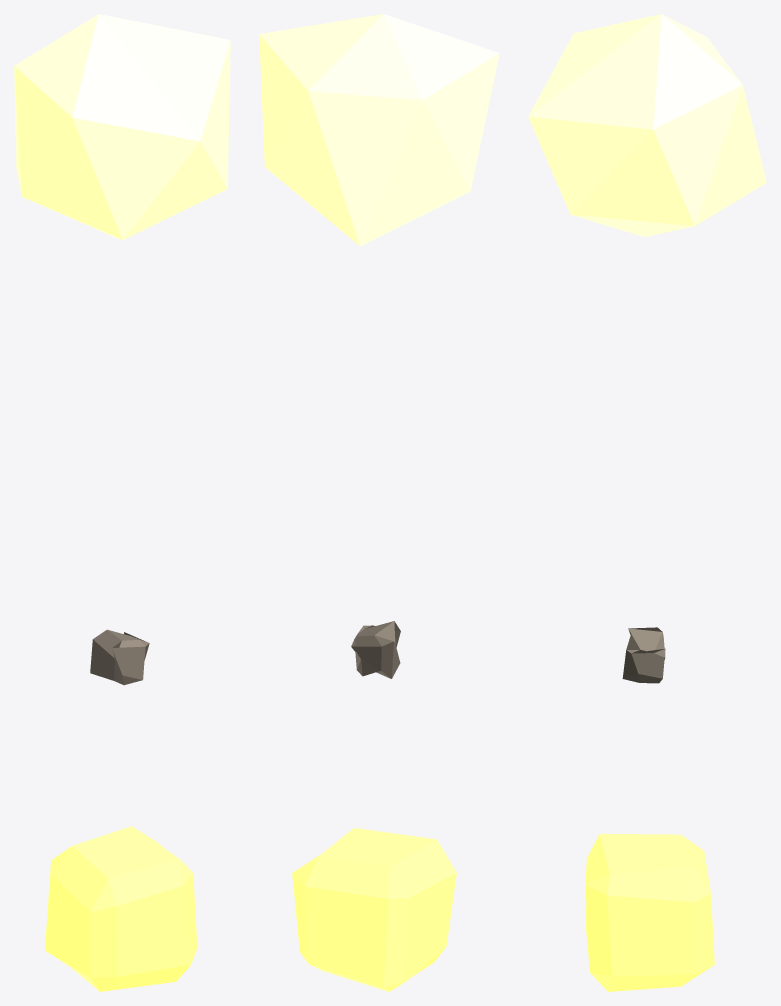
File: FX_Dust.fbx
3 views of the same model, side by side, from view 1: azimuth 30°, elevation 25°; view 2: azimuth 150°, elevation 25°; view 3: azimuth 270°, elevation 25° (orthographic).
Visible parts, largest first — view 1: FX_Dust_Blast, FX_Dust_Flame, FX_Dust_Mote; view 2: FX_Dust_Blast, FX_Dust_Flame, FX_Dust_Mote; view 3: FX_Dust_Blast, FX_Dust_Flame, FX_Dust_Mote.
Boxes of the visible parts, x1=… form: FX_Dust_Blast: x1=14, y1=14, x2=230, y2=239; FX_Dust_Flame: x1=45, y1=826, x2=197, y2=991; FX_Dust_Mote: x1=90, y1=629, x2=149, y2=685; FX_Dust_Blast: x1=259, y1=14, x2=499, y2=246; FX_Dust_Flame: x1=292, y1=828, x2=456, y2=991; FX_Dust_Mote: x1=351, y1=621, x2=400, y2=678; FX_Dust_Blast: x1=528, y1=14, x2=766, y2=236; FX_Dust_Flame: x1=585, y1=833, x2=714, y2=991; FX_Dust_Mote: x1=622, y1=627, x2=665, y2=683.
Bounding box in the file's own units: 0.3808 × 1.67 × 0.3787.
